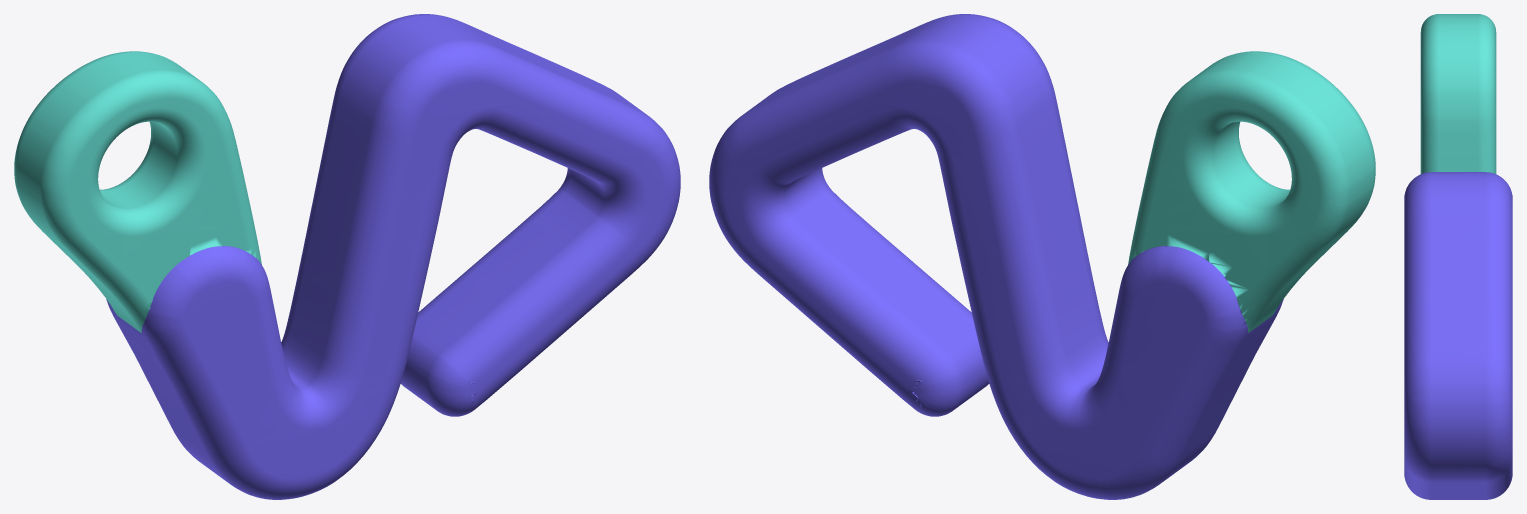
File: wayfare-znak-kosi.glb
3 views of the same model, side by side, from view 1: azimuth 30°, elevation 25°; view 2: azimuth 150°, elevation 25°; view 3: azimuth 270°, elevation 25° (orthographic). The views are drawn at different scales.
Parts seen in each view (by area): view 1: Znak, kos_031, kos_034, kos_079, kos_035, kos_021, kos_077, kos_027, kos_028, kos_038, kos_002, kos_049 (+44 smaller); view 2: Znak, kos_056, kos_026, kos_054, kos_021, kos_052, kos_044, kos_074, kos_039, kos_042, kos_079, kos_051 (+44 smaller); view 3: Znak, kos_023, kos_034, kos_048, kos_019, kos_070, kos_067, kos_007, kos_069, kos_043, kos_020, kos_022 (+11 smaller).
Part boxes in pixels (left/top/right/bottom): Znak: left=14, top=14, right=680, bottom=499; kos_031: left=354, top=87, right=458, bottom=188; kos_034: left=596, top=83, right=678, bottom=197; kos_079: left=425, top=281, right=522, bottom=352; kos_035: left=289, top=287, right=388, bottom=379; kos_021: left=473, top=226, right=564, bottom=333; kos_077: left=318, top=161, right=418, bottom=236; kos_027: left=285, top=396, right=371, bottom=491; kos_028: left=310, top=182, right=414, bottom=293; kos_038: left=518, top=204, right=624, bottom=298; kos_002: left=366, top=239, right=434, bottom=358; kos_049: left=422, top=350, right=526, bottom=416; Znak: left=709, top=14, right=1375, bottom=499; kos_056: left=1012, top=350, right=1101, bottom=451; kos_026: left=1114, top=343, right=1243, bottom=419; kos_054: left=897, top=40, right=986, bottom=135; kos_021: left=799, top=242, right=924, bottom=318; kos_052: left=952, top=136, right=1034, bottom=236; kos_044: left=724, top=168, right=823, bottom=236; kos_074: left=996, top=247, right=1087, bottom=333; kos_039: left=1117, top=410, right=1226, bottom=487; kos_042: left=1141, top=140, right=1214, bottom=230; kos_079: left=890, top=272, right=974, bottom=348; kos_051: left=886, top=325, right=980, bottom=408; Znak: left=1405, top=14, right=1511, bottom=499; kos_023: left=1404, top=245, right=1512, bottom=312; kos_034: left=1404, top=326, right=1499, bottom=418; kos_048: left=1404, top=208, right=1509, bottom=274; kos_019: left=1404, top=366, right=1512, bottom=442; kos_070: left=1404, top=419, right=1511, bottom=470; kos_067: left=1420, top=55, right=1496, bottom=118; kos_007: left=1420, top=106, right=1495, bottom=163; kos_069: left=1414, top=183, right=1512, bottom=249; kos_043: left=1421, top=26, right=1496, bottom=82; kos_020: left=1404, top=286, right=1512, bottom=342; kos_022: left=1404, top=443, right=1512, bottom=480.
Bounding box in the file's own units: 1.55 × 1.07 × 0.2741.
